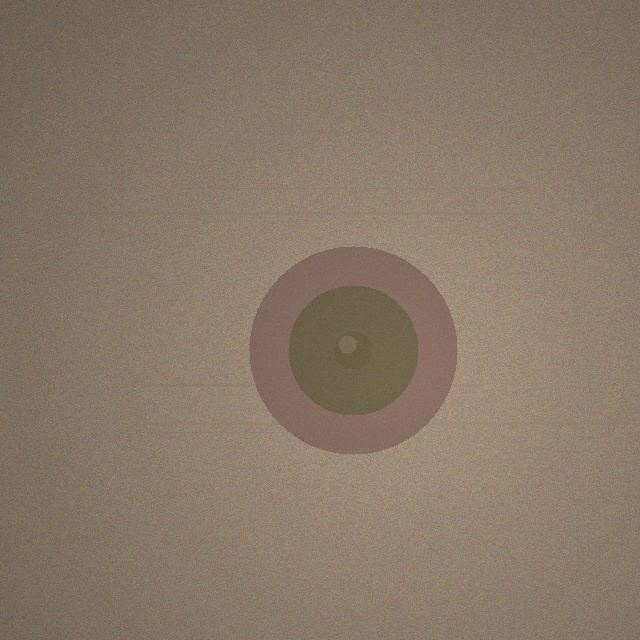good: (249, 246, 457, 454)
